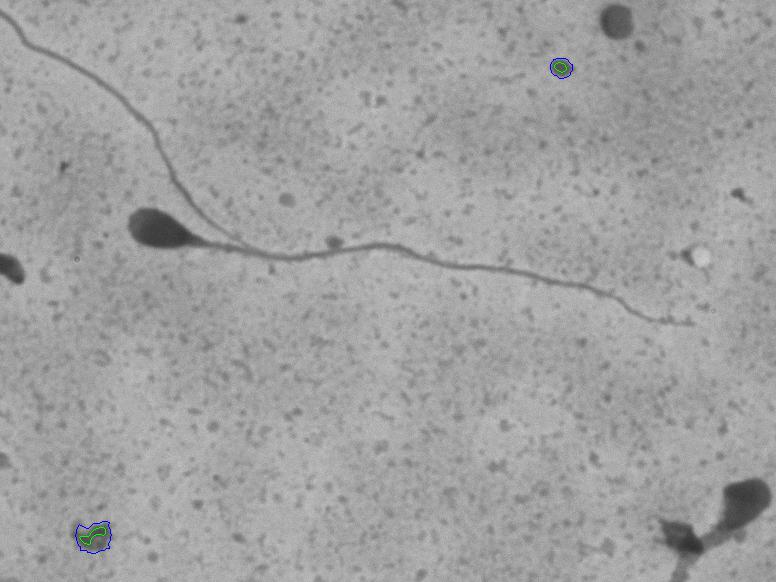Normal: (107, 195, 698, 364)
